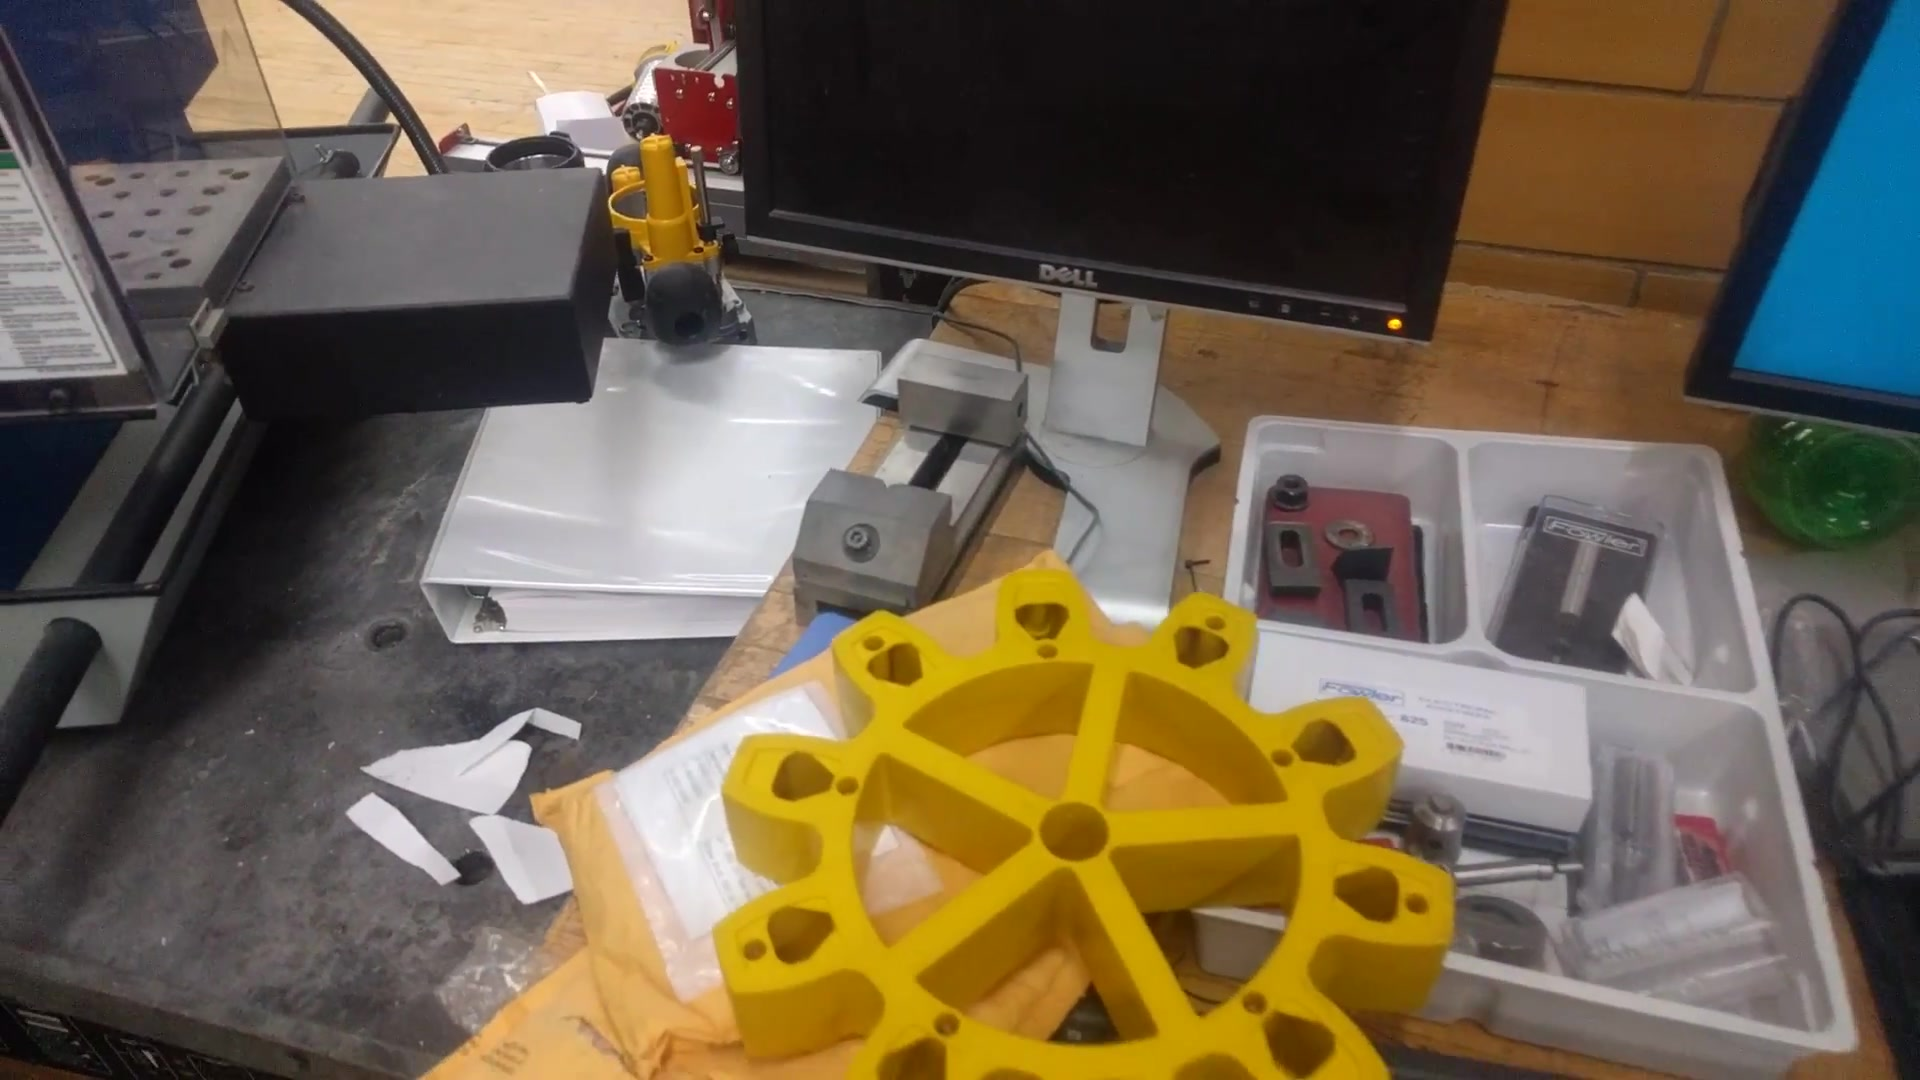gear: (698, 545, 1462, 1079)
